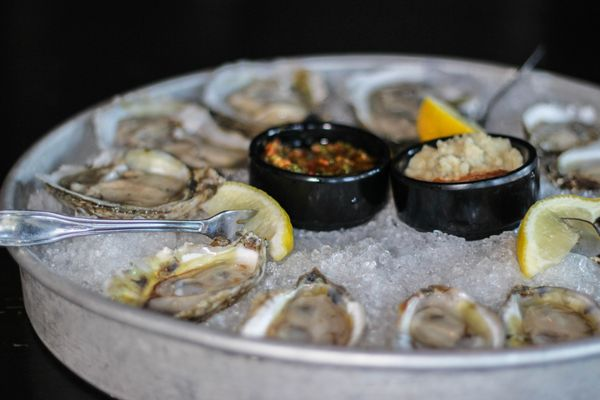salad: (0, 207, 218, 248)
sushi: (389, 111, 538, 241), (248, 119, 391, 231)
